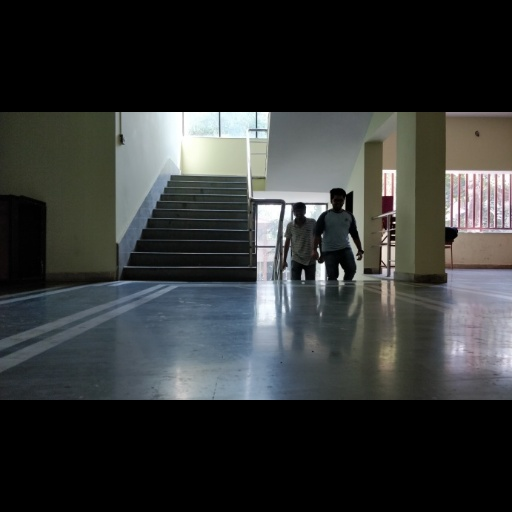Stairs: (122, 175, 256, 281)
